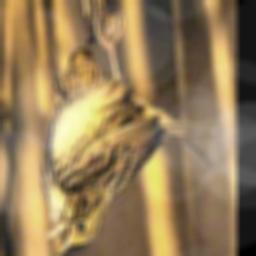Sparrow: (42, 11, 224, 256)
